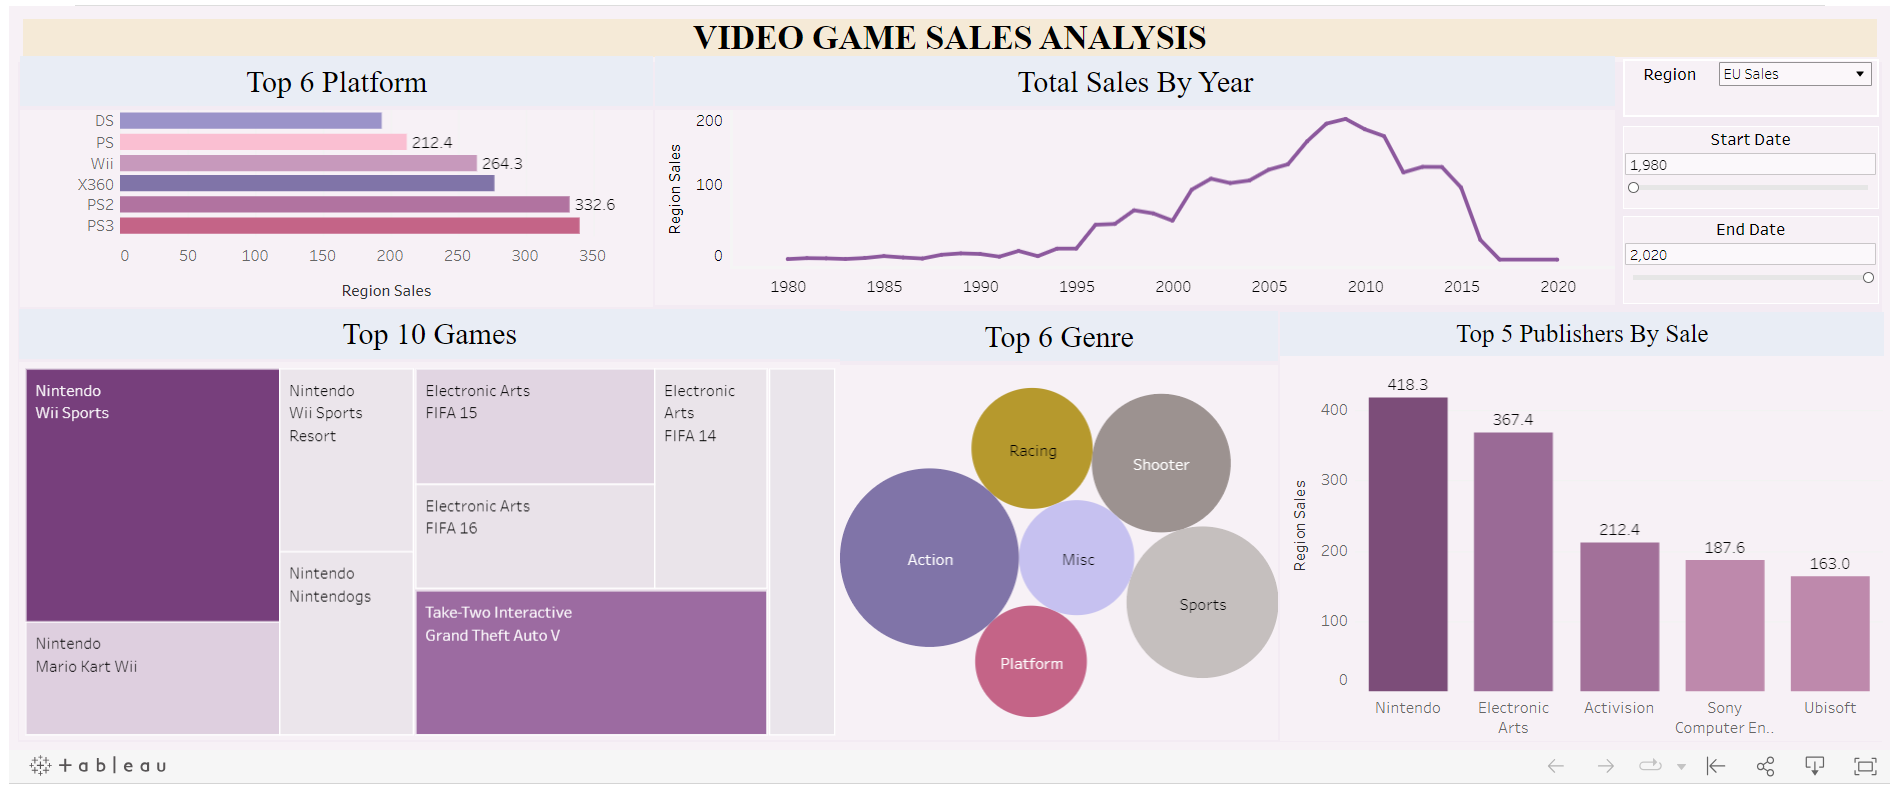

Layout of this report page (visuals, bound fields, positions):
{"tool":"tableau","page":{"name":"Video_Game_Sales_Analysis","canvas":[1000,1000],"units":"permille","ordinal":0},"visuals":[{"type":"title","box":[4.8,10,990.3,56.2]},{"type":"worksheet","title":"Top 6 platfrom","mark":"Automatic","rows":["Platform"],"cols":["Calculation_1303792121079234560"],"box":[6,67.5,335.9,337.5]},{"type":"worksheet","title":"Total sales by year","mark":"Automatic","rows":["Calculation_1303792121079234560"],"cols":["Year"],"box":[343.8,67.5,510,335]},{"type":"parameter","param":"[Parameters].[Parameter 1]","box":[858,70,135.9,78.8]},{"type":"parameter","param":"[Parameters].[Parameter 2]","box":[858,161.2,135.9,111.2]},{"type":"parameter","param":"[Parameters].[Parameter 3]","box":[858,282.5,135.9,117.5]},{"type":"worksheet","title":"Top 10 games","mark":"Automatic","box":[5.4,407.5,436.2,580]},{"type":"worksheet","title":"Top 6 genre","mark":"Circle","box":[441.7,410,232.6,576.2]},{"type":"worksheet","title":"Top 5 publishers","mark":"Automatic","rows":["Calculation_1303792121079234560"],"cols":["Publisher"],"box":[675.5,411.2,320.9,576.2]}]}

Visuals, with their boxes on the dashboard's canvas, which has no fixed pixel size, in thousandths of its width and height (x1, y1, x2, y2). These are canvas units, not pixel positions in the 1899x792 screenshot, which may show the page scaled, cropped or inside an application window:
title: <region>5, 10, 995, 66</region>
"Top 6 platfrom" worksheet: <region>6, 68, 342, 405</region>
"Total sales by year" worksheet: <region>344, 68, 854, 402</region>
parameter: <region>858, 70, 994, 149</region>
parameter: <region>858, 161, 994, 272</region>
parameter: <region>858, 282, 994, 400</region>
"Top 10 games" worksheet: <region>5, 408, 442, 988</region>
"Top 6 genre" worksheet (Circle marks): <region>442, 410, 674, 986</region>
"Top 5 publishers" worksheet: <region>676, 411, 996, 987</region>
